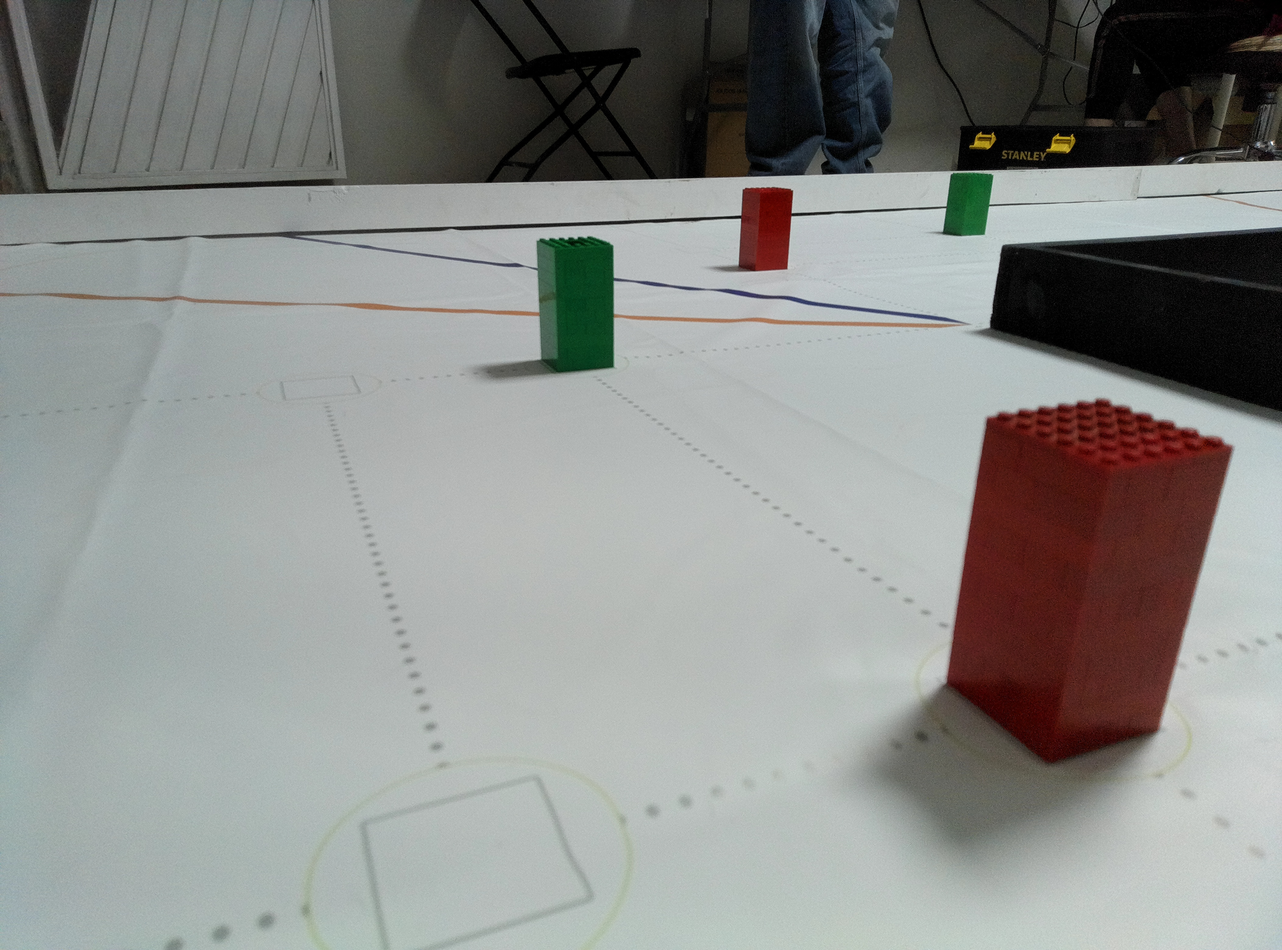greenbox: (534, 235, 617, 377), (942, 171, 996, 239)
redbox: (944, 390, 1235, 771), (738, 184, 794, 272)
